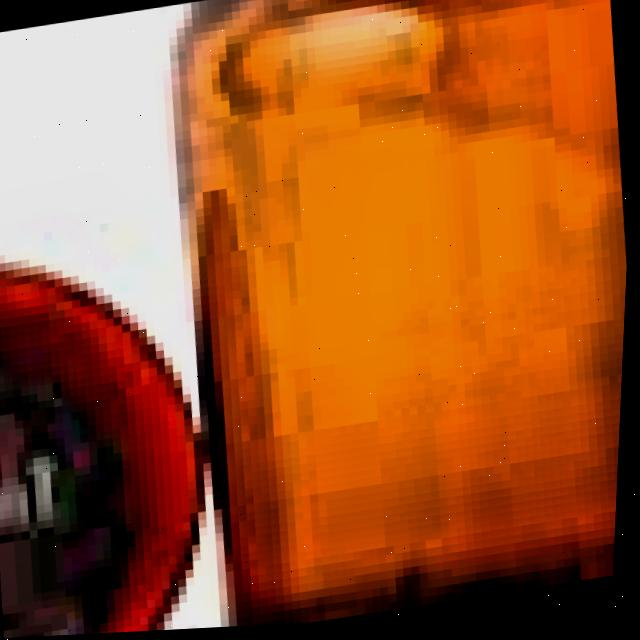glass: (163, 0, 629, 630)
